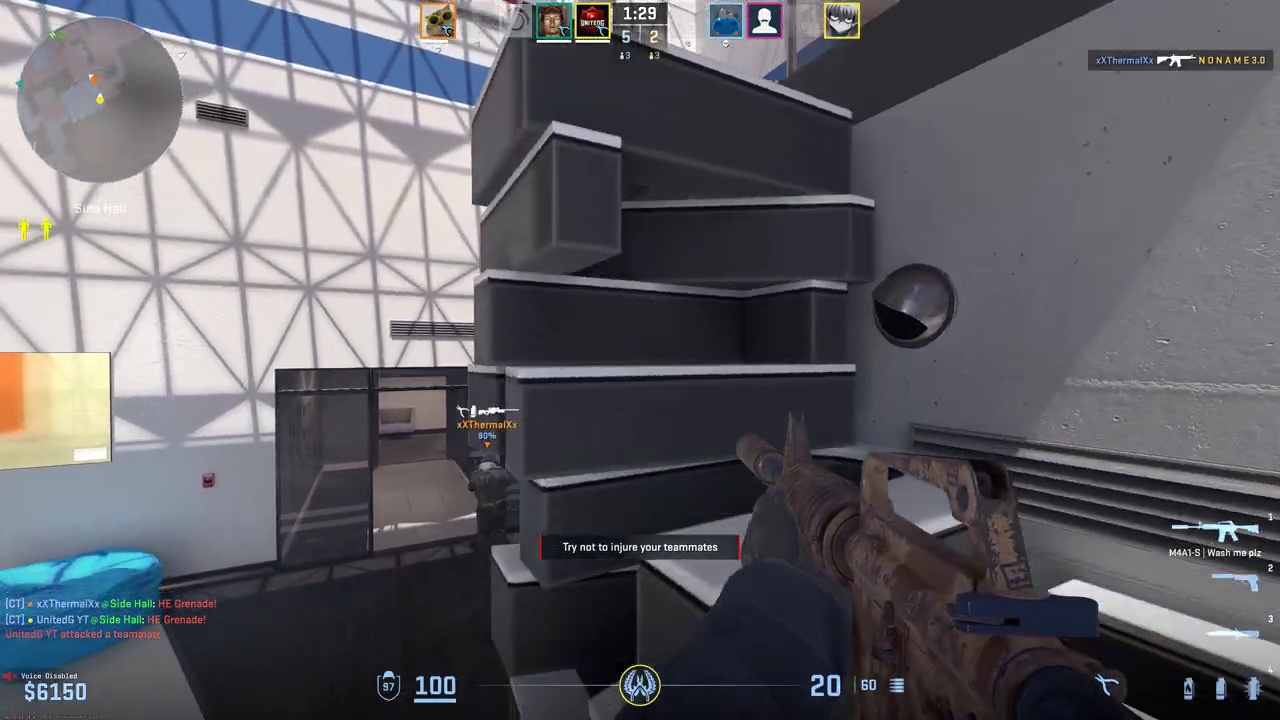CT: (469, 453, 511, 547)
